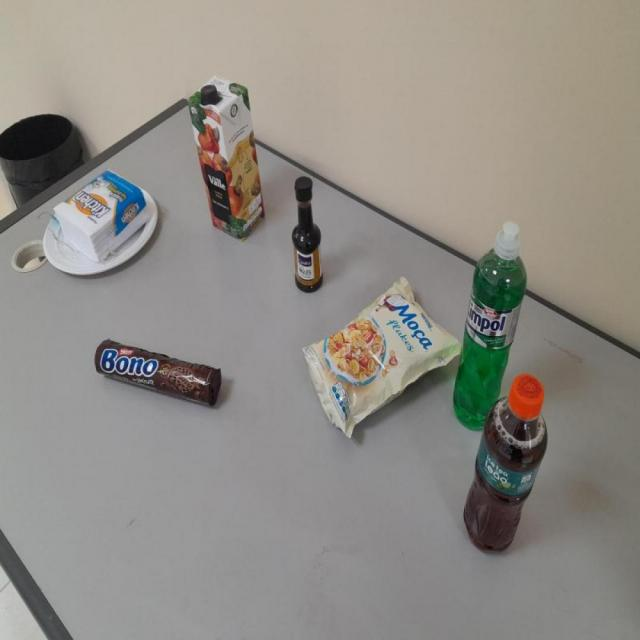Cleaner: (452, 224, 527, 433)
Cookies: (93, 341, 224, 409)
CornFlakes: (302, 279, 460, 439)
EnglishSauce: (291, 176, 324, 295)
IceTea: (464, 375, 548, 554)
